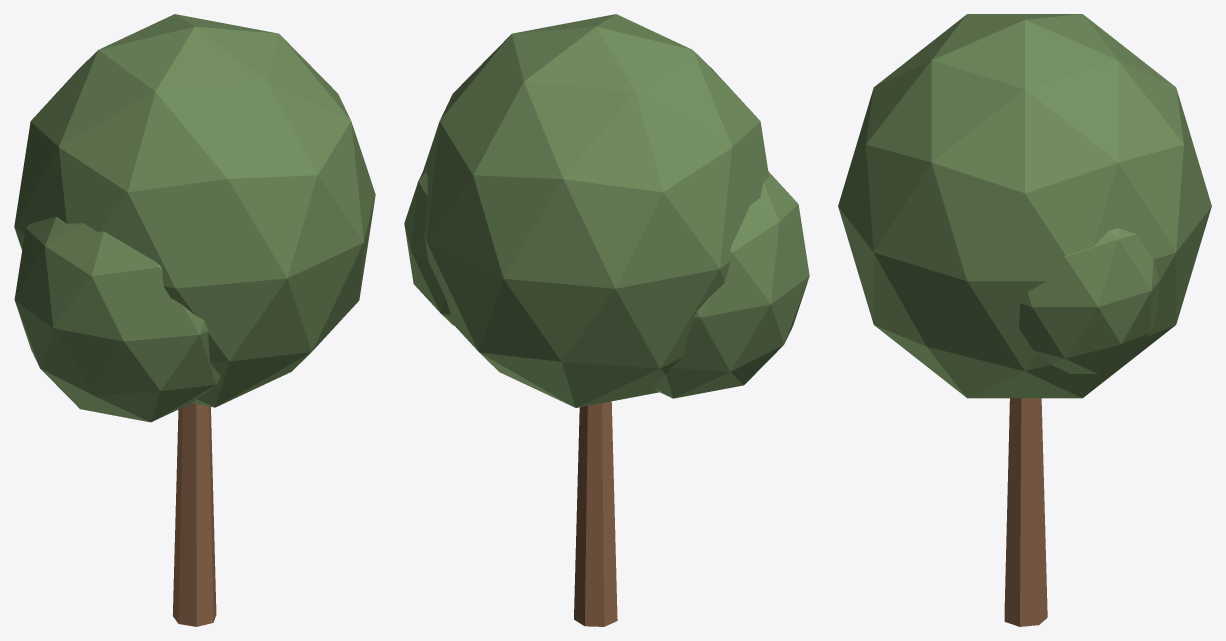
Rendered from tree_lod.glb.
3 views of the same model, side by side, from view 1: azimuth 30°, elevation 25°; view 2: azimuth 150°, elevation 25°; view 3: azimuth 270°, elevation 25° (orthographic).
Parts seen in each view (by area): view 1: tree_Tree_Crown, tree_Tree_Crown.001, tree_Tree_Trunk; view 2: tree_Tree_Crown, tree_Tree_Crown.001, tree_Tree_Trunk, tree_Tree_Crown.002; view 3: tree_Tree_Crown, tree_Tree_Crown.002, tree_Tree_Trunk.
Boxes of the visible parts, left/top/right/bottom form: tree_Tree_Crown: left=14, top=14, right=375, bottom=407; tree_Tree_Crown.001: left=14, top=216, right=220, bottom=422; tree_Tree_Trunk: left=172, top=403, right=216, bottom=626; tree_Tree_Crown: left=422, top=14, right=768, bottom=407; tree_Tree_Crown.001: left=654, top=171, right=809, bottom=398; tree_Tree_Trunk: left=574, top=401, right=617, bottom=626; tree_Tree_Crown.002: left=404, top=172, right=454, bottom=325; tree_Tree_Crown: left=838, top=14, right=1211, bottom=398; tree_Tree_Crown.002: left=1019, top=228, right=1159, bottom=373; tree_Tree_Trunk: left=1004, top=398, right=1047, bottom=626.
Size of the model in its own units: 2.91 by 4.94 by 2.8.
